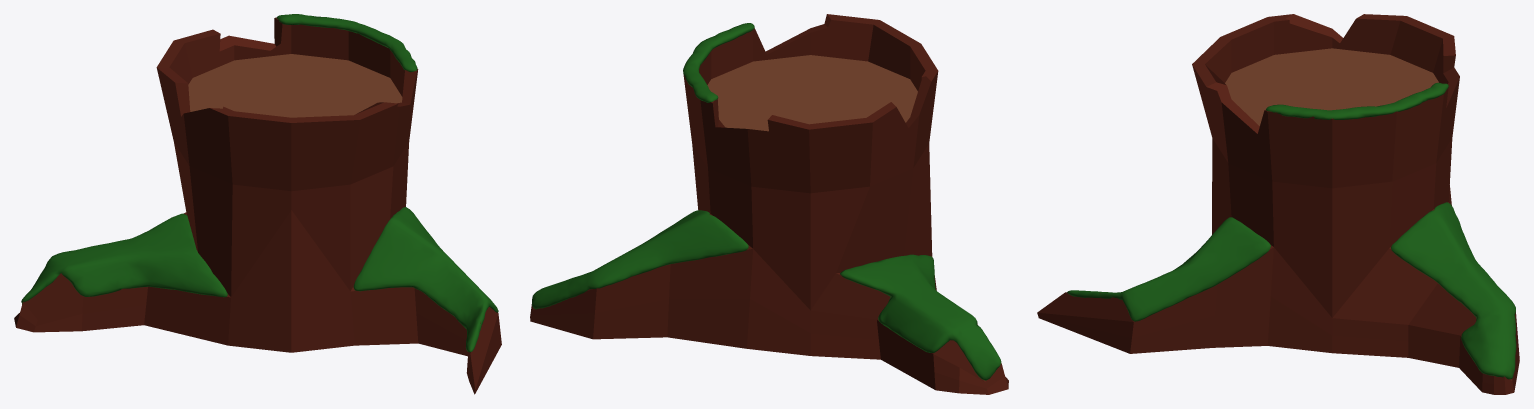
Rendered from Tree Stump.fbx.
3 views of the same model, side by side, from view 1: azimuth 30°, elevation 25°; view 2: azimuth 150°, elevation 25°; view 3: azimuth 270°, elevation 25° (orthographic). The views are drawn at different scales.
Visible parts, largest first — view 1: Tree Stump; view 2: Tree Stump; view 3: Tree Stump.
Boxes of the visible parts, left/top/right/bottom form: Tree Stump: left=14, top=14, right=501, bottom=394; Tree Stump: left=530, top=14, right=1008, bottom=394; Tree Stump: left=1037, top=14, right=1519, bottom=394.
Size of the model in its own units: 2348 by 1219 by 2240.
